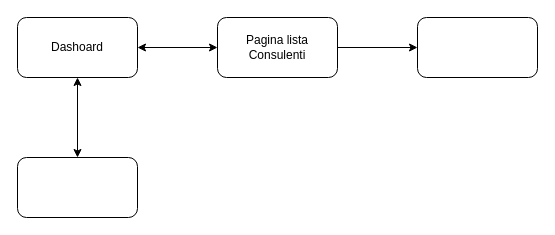
Image size: 555x235. Some labels were removed from this diagram. The centre of each missing label's shape, as x and y in pixels:
Eliminazione Consulente: the point at 477,47
Home: the point at 77,187
